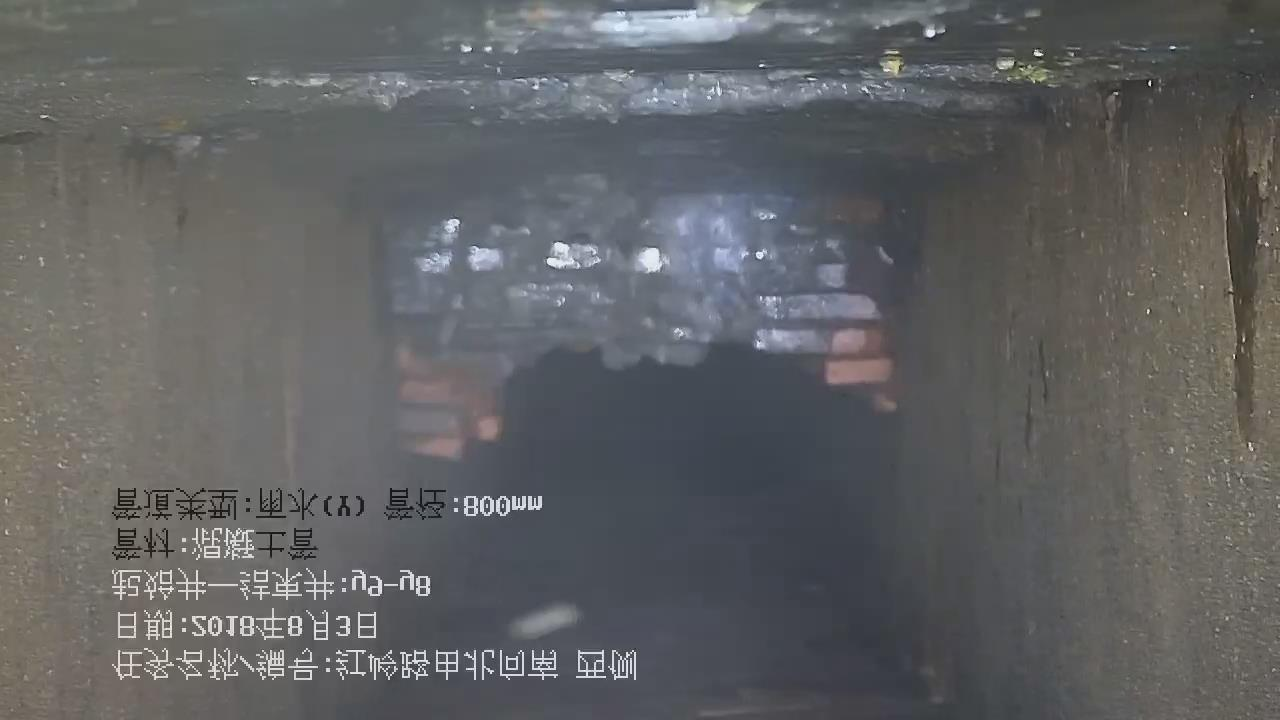CQBG: (382, 174, 896, 460)
